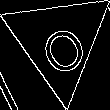O_NW: (29, 8, 89, 75)
